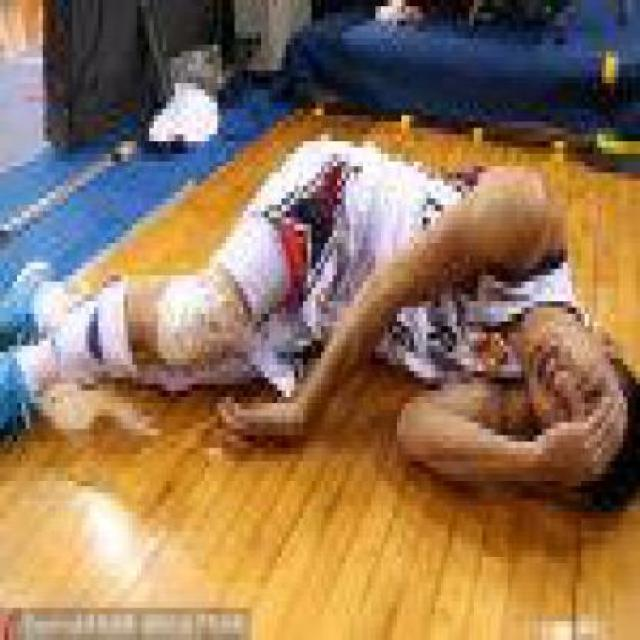fall: (0, 89, 632, 526)
